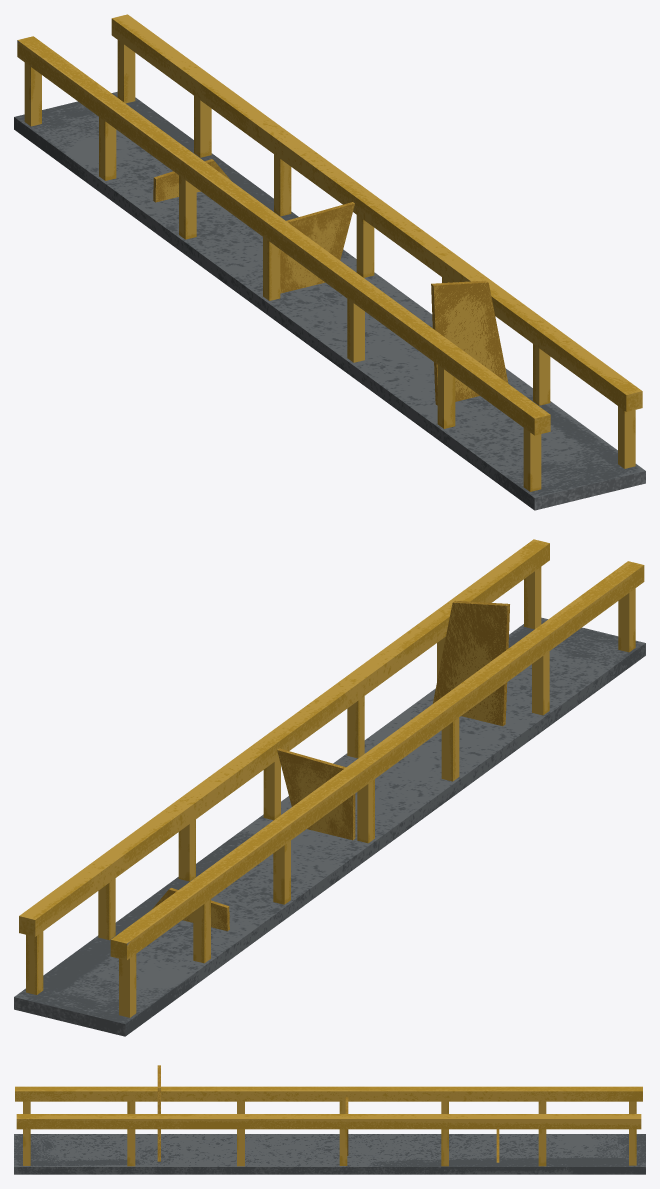
The model's file is cat new.fbx.
3 renders of one model, top to bottom at view 1: azimuth 30°, elevation 25°; view 2: azimuth 150°, elevation 25°; view 3: azimuth 270°, elevation 25°, orthographic. The views are drawn at different scales.
Visible parts, largest first — view 1: pCube8, pCube10; view 2: pCube8, pCube10; view 3: pCube8, pCube10.
Boxes of the visible parts, x1,y1,x2,y2 form: pCube8: (14, 14, 645, 510); pCube10: (153, 159, 508, 405); pCube8: (14, 539, 645, 1036); pCube10: (152, 600, 509, 931); pCube8: (14, 1086, 645, 1174); pCube10: (157, 1065, 499, 1162).
Bounding box in the file's own units: 441 × 585 × 3571.
